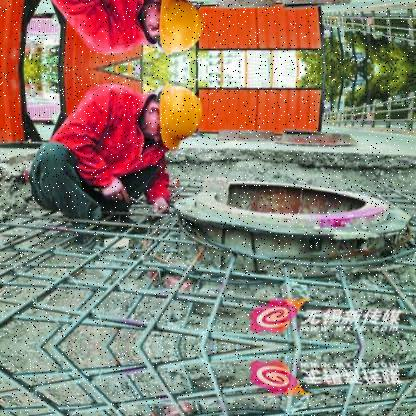Helmet: (138, 78, 202, 152), (140, 0, 208, 63)
